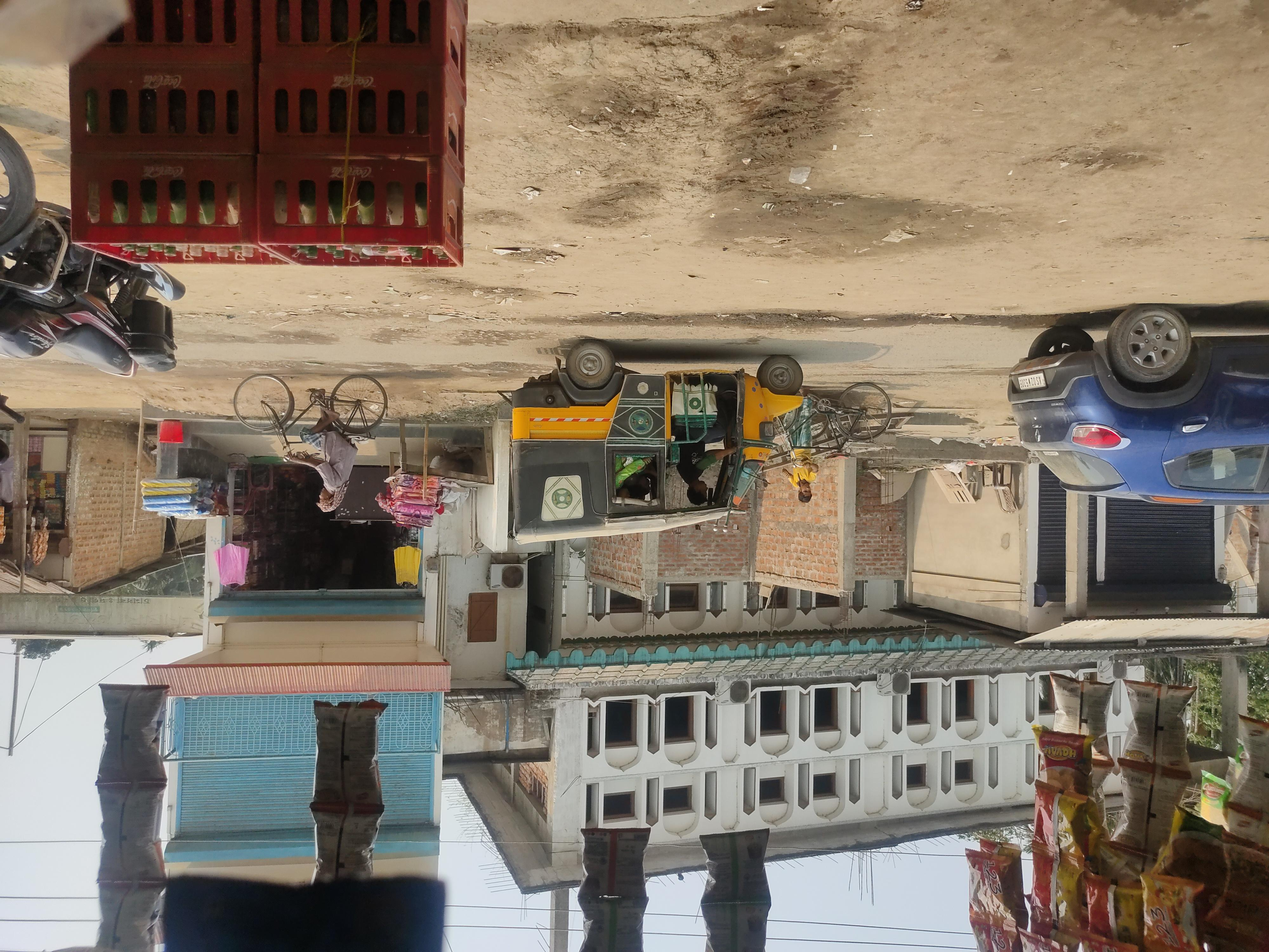Auto: (489, 361, 842, 613)
